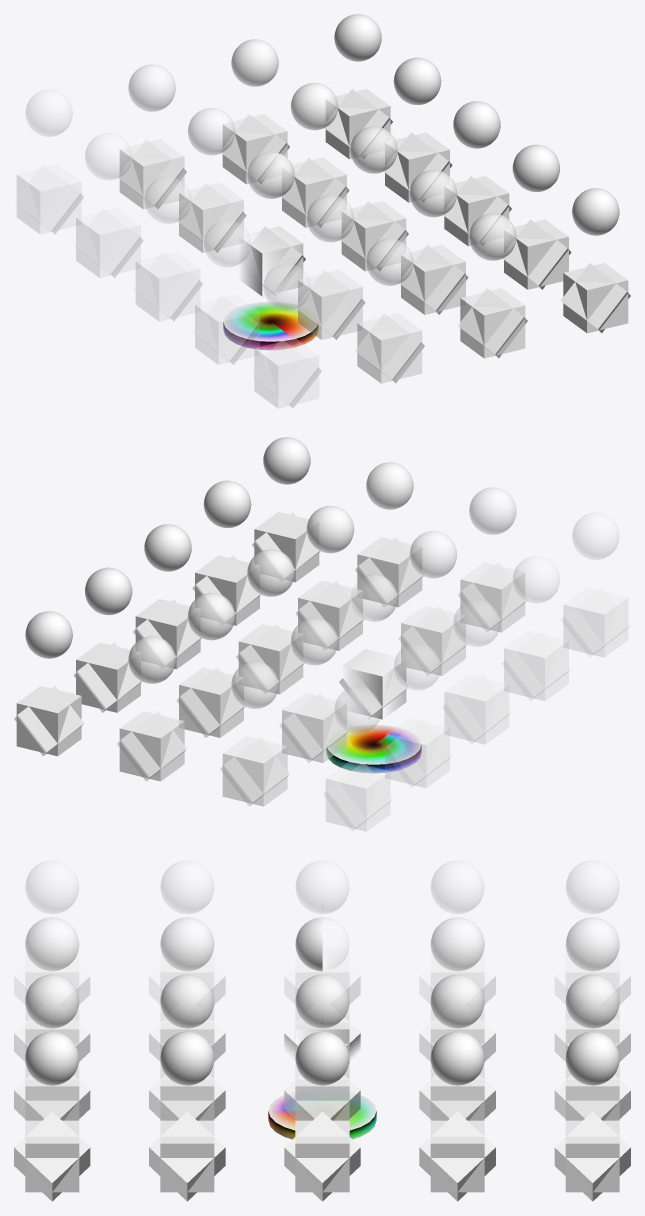
The model's file is opacity-metal-rough.gltf.
The picture shows the model from 3 angles, top to bottom: view 1: azimuth 30°, elevation 25°; view 2: azimuth 150°, elevation 25°; view 3: azimuth 270°, elevation 25°; orthographic projection. The views are drawn at different scales.
Visible parts, largest first — view 1: cube (×20), diamond (×20), sphere (×20), base; view 2: cube (×20), diamond (×20), sphere (×20), base; view 3: sphere (×20), diamond (×20), cube (×20), base.
Boxes of the visible parts, x1,y1,x2,y2 form: cube (×20): (17, 89, 628, 408); diamond (×20): (14, 89, 630, 407); sphere (×20): (25, 14, 619, 310); base: (223, 301, 318, 350); cube (×20): (16, 512, 627, 831); diamond (×20): (14, 512, 630, 830); sphere (×20): (25, 437, 619, 733); base: (326, 724, 421, 773); sphere (×20): (25, 860, 619, 1085); diamond (×20): (14, 941, 630, 1201); cube (×20): (25, 949, 619, 1192); base: (268, 1092, 376, 1139).
Size of what is drawn, in the model's own units: 4.6 by 2.05 by 5.71.
Materials: 21 (2 with a texture image).
